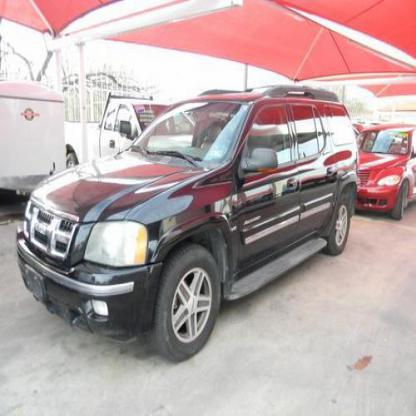Vehicle: (15, 83, 364, 367)
